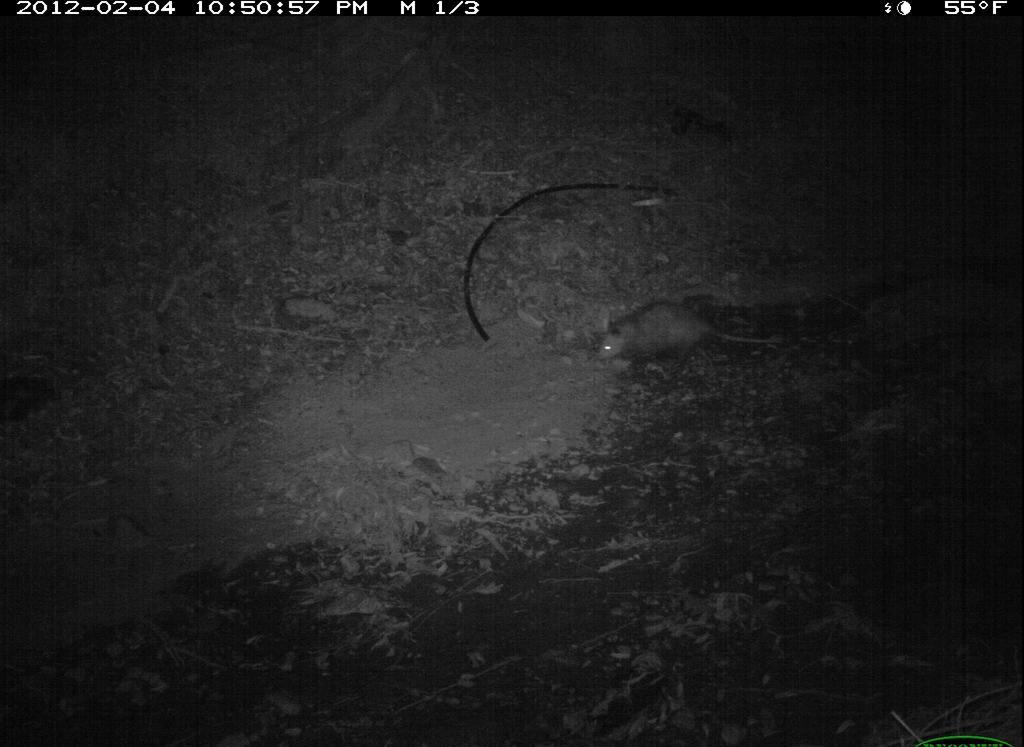opossum: (588, 300, 788, 385)
